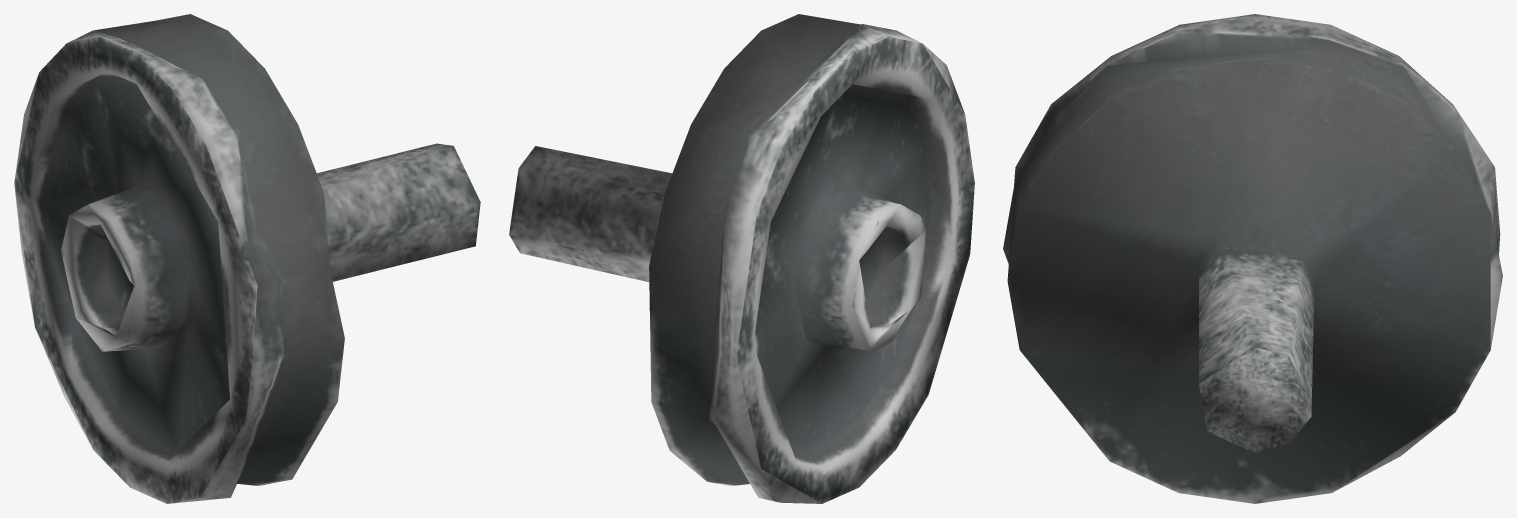
File: SM_Wheel_01_LOD_02.FBX
The picture shows the model from 3 angles, left to right: view 1: azimuth 30°, elevation 25°; view 2: azimuth 150°, elevation 25°; view 3: azimuth 270°, elevation 25°; orthographic projection. The views are drawn at different scales.
Parts seen in each view (by area): view 1: SM_Wheel_01_LOD_02; view 2: SM_Wheel_01_LOD_02; view 3: SM_Wheel_01_LOD_02.
Boxes of the visible parts, box(x1,y1,x2,y2) form: SM_Wheel_01_LOD_02: box(14, 14, 480, 503); SM_Wheel_01_LOD_02: box(509, 14, 974, 503); SM_Wheel_01_LOD_02: box(1003, 14, 1502, 503).
Bounding box in the file's own units: 1.17 × 1.39 × 1.39.
Materials: 1 (1 with a texture image).
